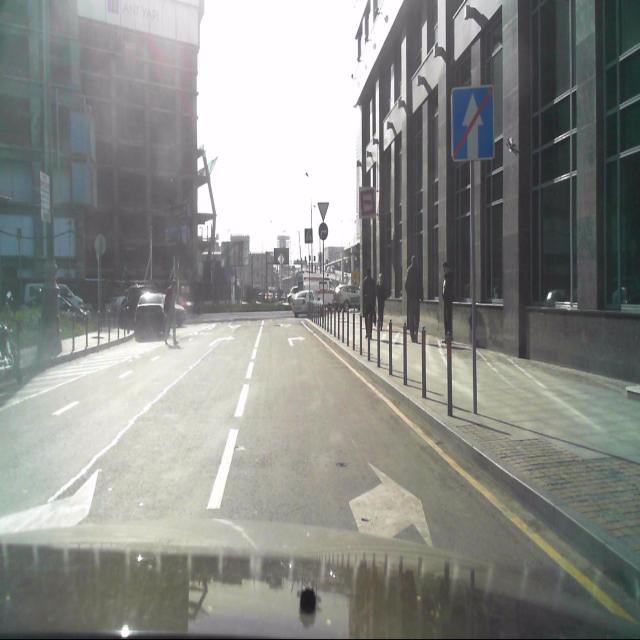road sign: (452, 83, 494, 161), (470, 161, 478, 415), (316, 203, 330, 221), (309, 243, 312, 318), (322, 242, 324, 325), (305, 228, 314, 245)
